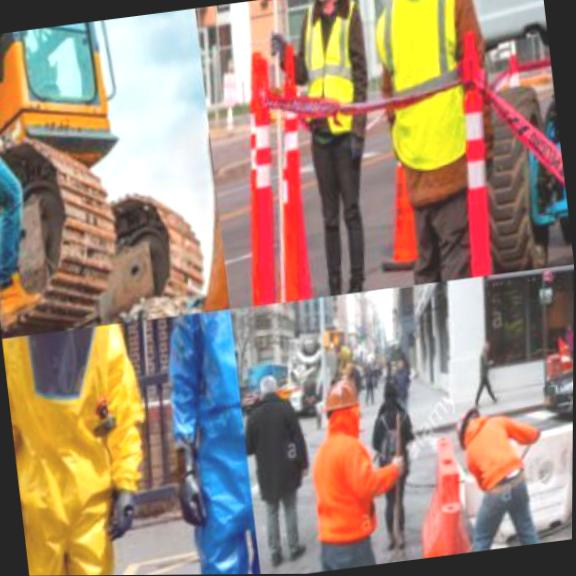safety_vest: (0, 321, 165, 576), (148, 308, 261, 575), (362, 0, 491, 190), (289, 0, 376, 153), (0, 33, 9, 127)
